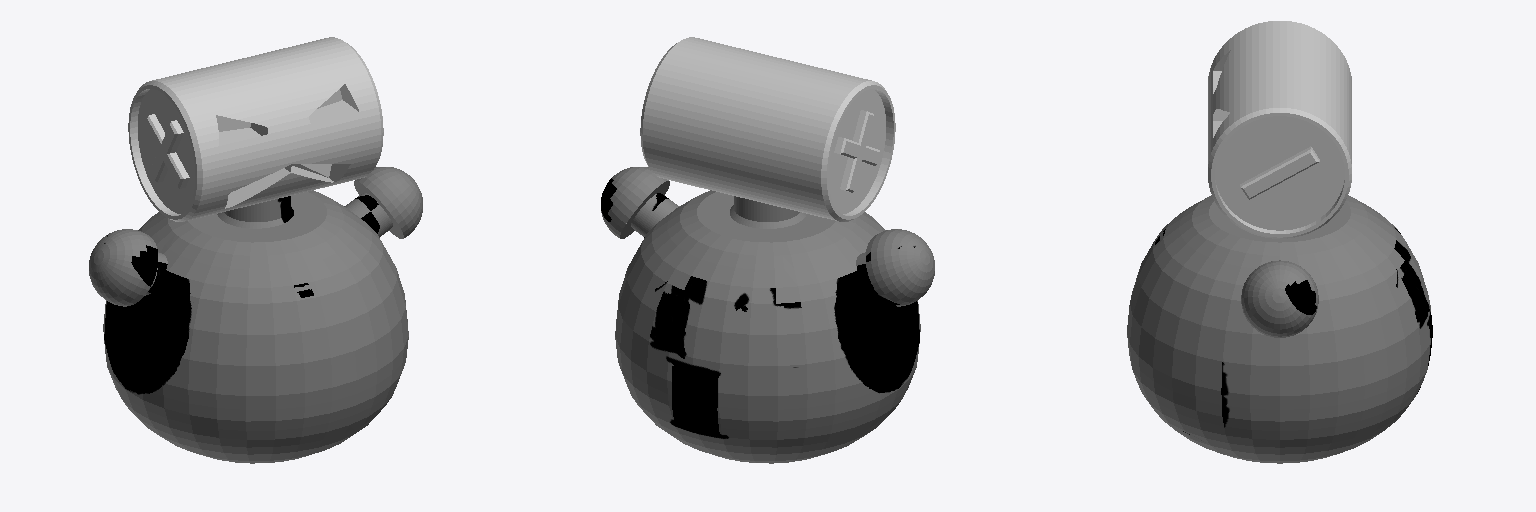
3 views of the same model, side by side, from view 1: azimuth 30°, elevation 25°; view 2: azimuth 150°, elevation 25°; view 3: azimuth 270°, elevation 25° (orthographic).
Parts seen in each view (by area): view 1: Head; view 2: Head; view 3: Head.
Boxes of the visible parts, box(x1,y1,x2,y2) form: Head: box(89, 37, 422, 463); Head: box(601, 37, 934, 463); Head: box(1127, 21, 1432, 463).
Size of the model in its own units: 5.69 by 6.43 by 4.65.
Materials: 2 (1 with a texture image).